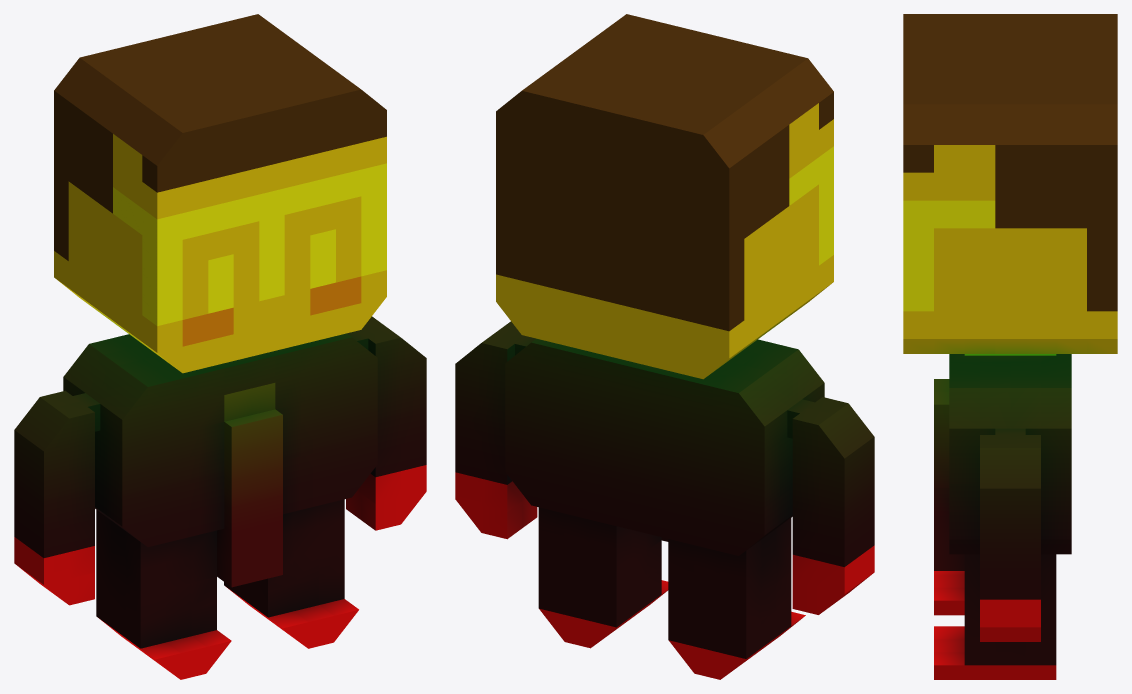
The model's file is AndyBurnham.fbx.
3 views of the same model, side by side, from view 1: azimuth 30°, elevation 25°; view 2: azimuth 150°, elevation 25°; view 3: azimuth 270°, elevation 25° (orthographic). The views are drawn at different scales.
Visible parts, largest first — view 1: Head, Body, ArmL, LegL, ArmR, LegR, Tie; view 2: Head, Body, ArmL, LegL, LegR, ArmR; view 3: Head, Body, ArmR, LegR, Tie, LegL.
Part boxes in pixels (x1,y1,x2,y2): Head: [54, 14, 386, 373]; Body: [63, 333, 377, 546]; ArmL: [14, 390, 100, 605]; LegL: [96, 510, 231, 679]; ArmR: [346, 316, 426, 530]; LegR: [224, 499, 358, 648]; Tie: [217, 409, 282, 587]; Head: [496, 14, 833, 379]; Body: [505, 338, 824, 555]; ArmL: [787, 397, 874, 614]; LegL: [668, 518, 805, 679]; LegR: [538, 507, 668, 648]; ArmR: [455, 321, 537, 539]; Head: [903, 14, 1117, 355]; Body: [949, 354, 1071, 554]; ArmR: [980, 428, 1040, 641]; LegR: [934, 554, 1056, 679]; Tie: [934, 379, 964, 570]; LegL: [934, 571, 964, 615].
Size of the model in its own units: 1.5 by 2.1 by 0.7.
